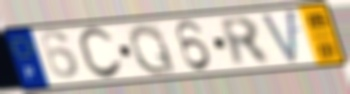6: (41, 28, 82, 86), (174, 19, 214, 73)
C: (76, 25, 126, 82)
Q: (127, 22, 179, 77)
R: (216, 16, 275, 70)
V: (258, 8, 299, 67)
